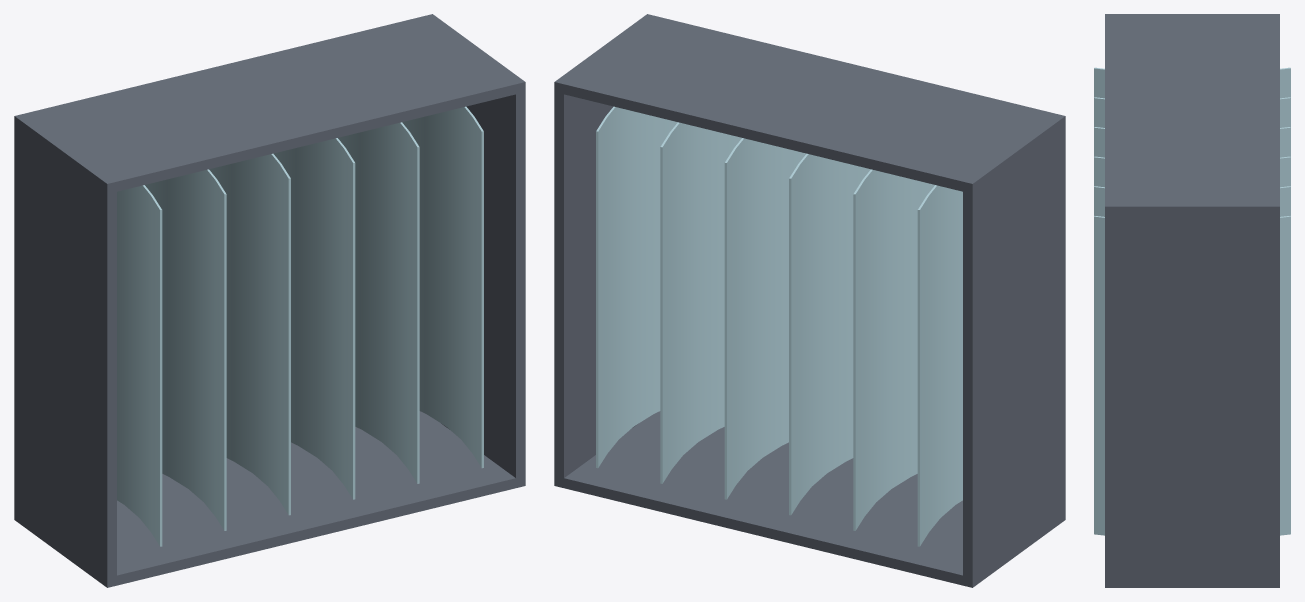
File: police.store.shield_rack.glb
The picture shows the model from 3 angles, left to right: view 1: azimuth 30°, elevation 25°; view 2: azimuth 150°, elevation 25°; view 3: azimuth 270°, elevation 25°; orthographic projection. The views are drawn at different scales.
Parts seen in each view (by area): view 1: main__steel_painted, main__glass; view 2: main__steel_painted, main__glass; view 3: main__steel_painted, main__glass.
Boxes of the visible parts, bbox=[...] form: main__steel_painted: bbox=[14, 14, 525, 587]; main__glass: bbox=[117, 106, 483, 546]; main__steel_painted: bbox=[554, 14, 1065, 587]; main__glass: bbox=[596, 106, 962, 546]; main__steel_painted: bbox=[1105, 14, 1279, 587]; main__glass: bbox=[1094, 67, 1290, 535].
Size of the model in its own units: 1.3 by 1.2 by 0.5616.
